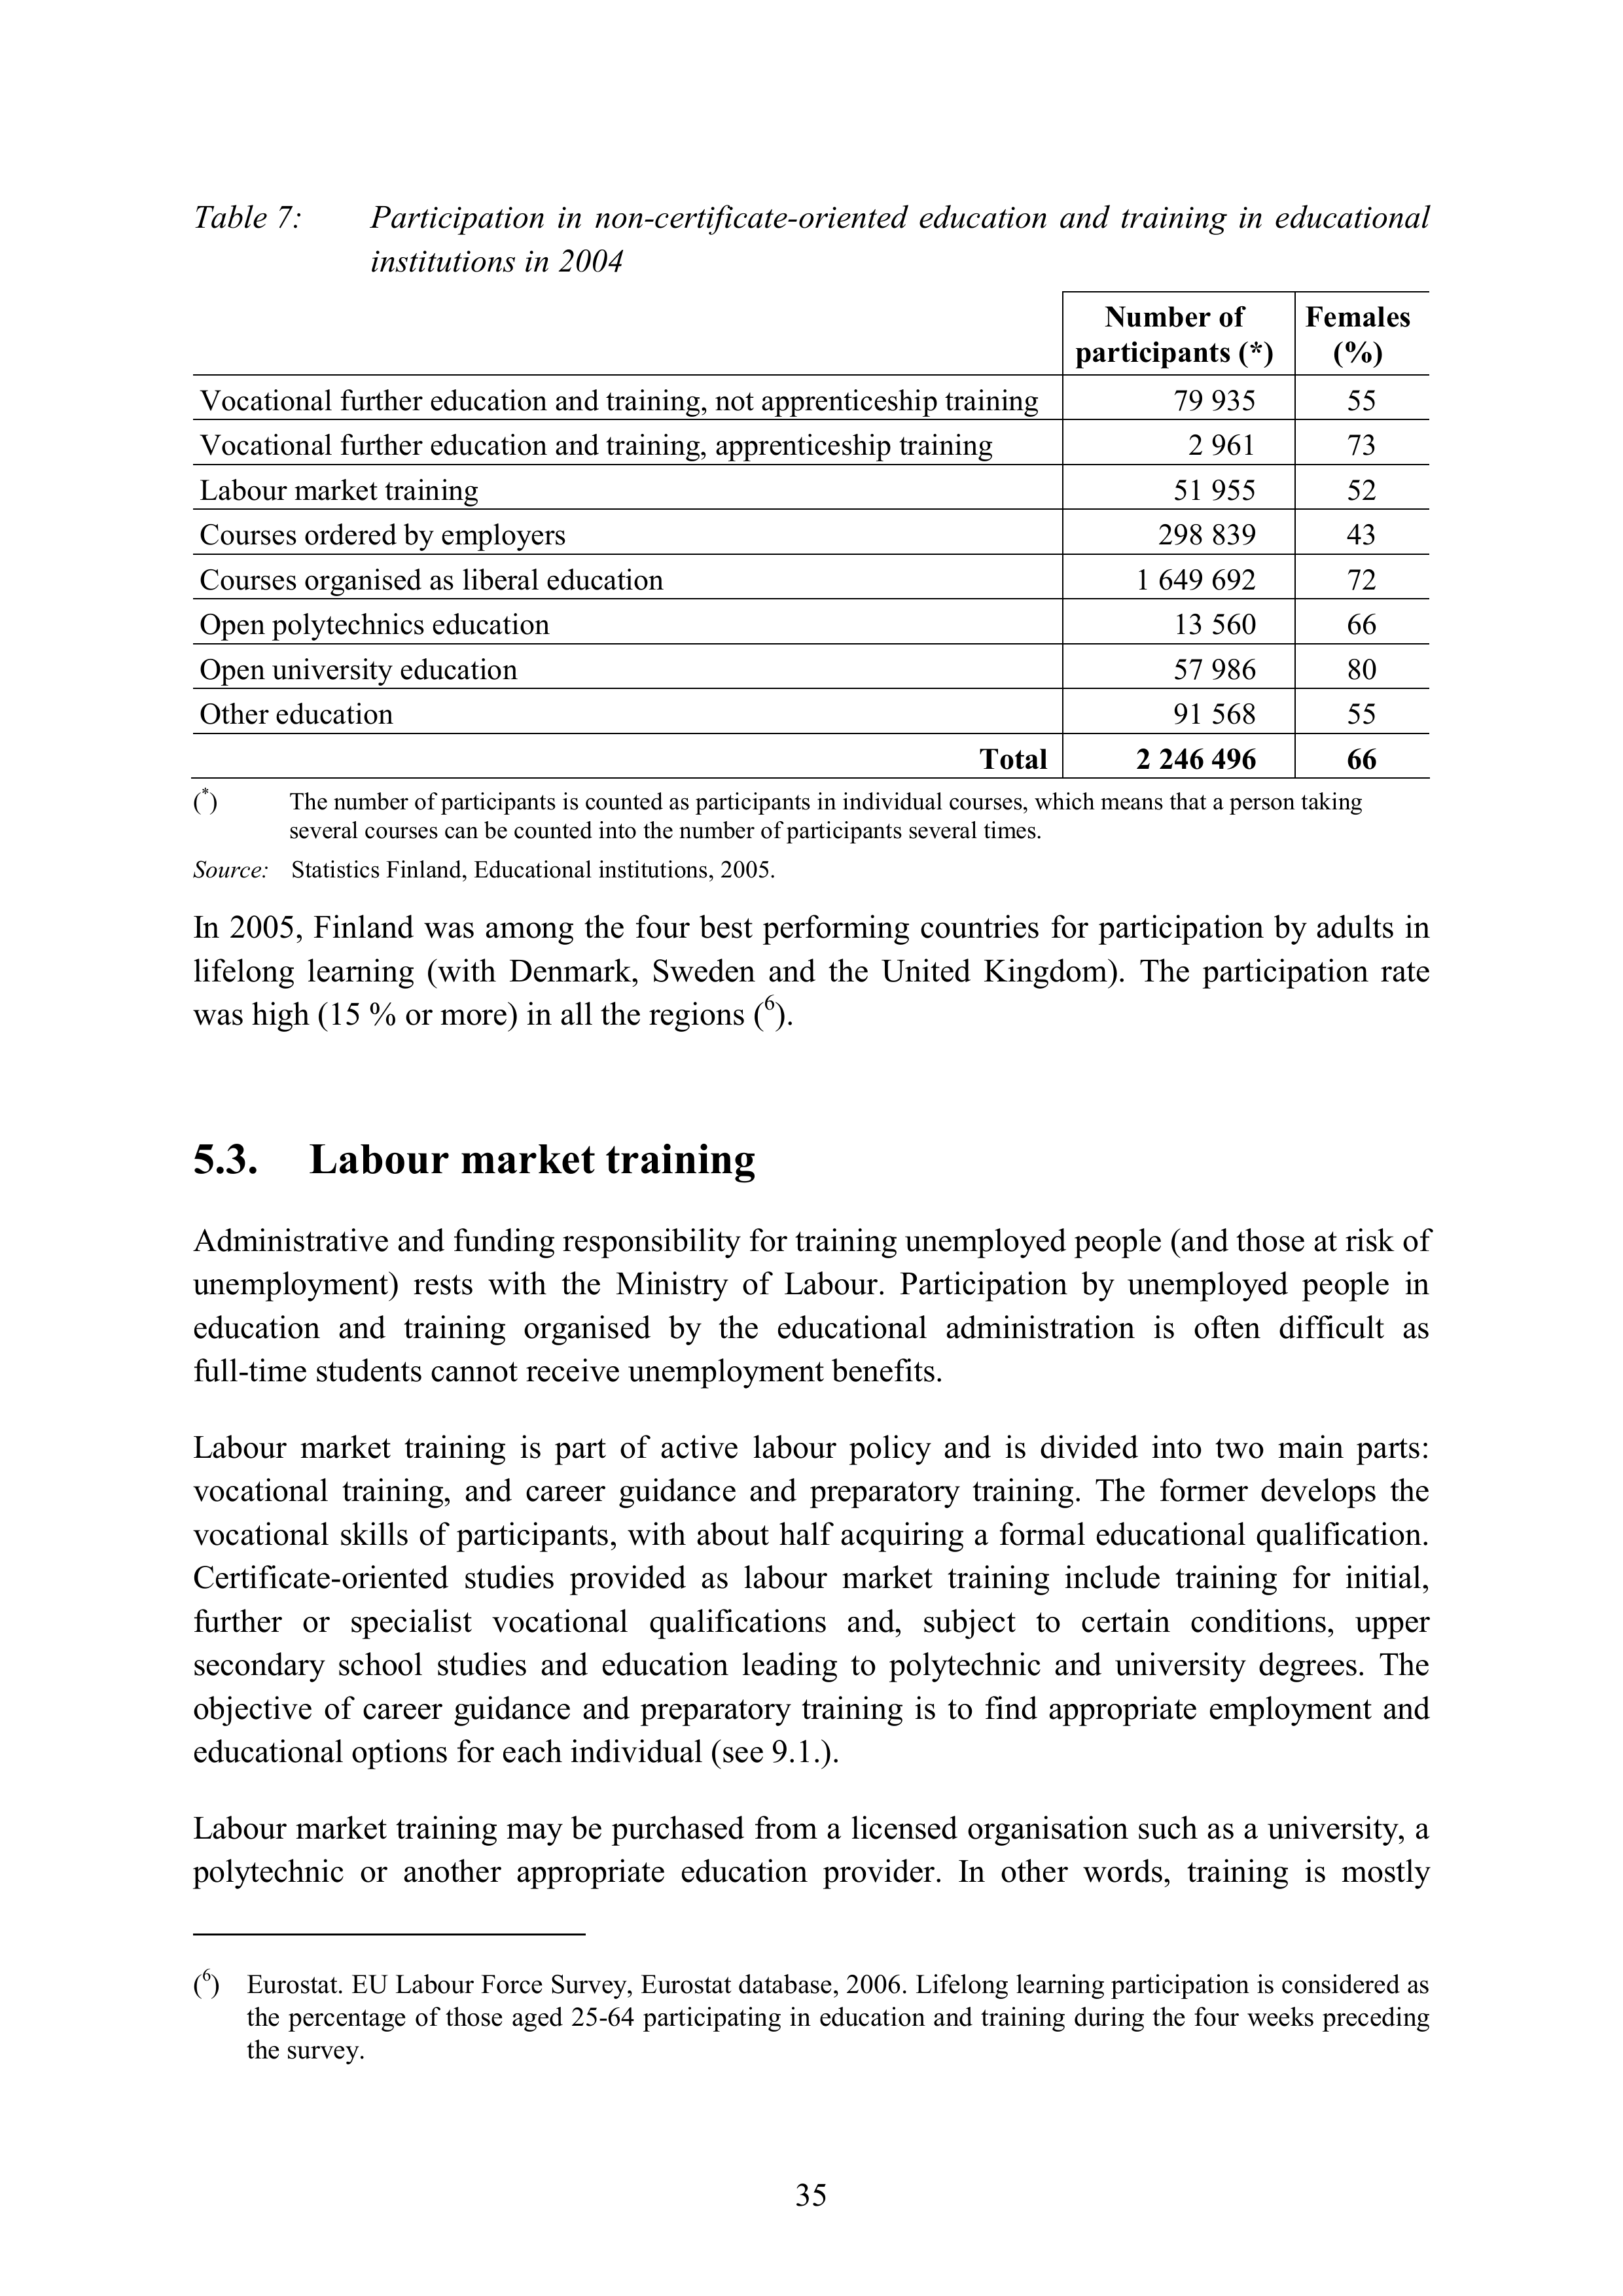table: (191, 286, 1430, 781)
